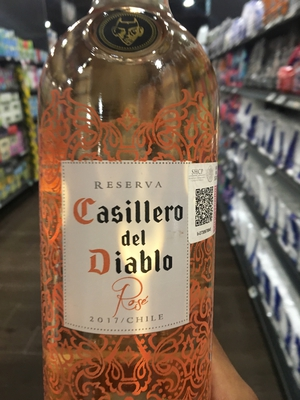casillero del diablo rose: (29, 12, 227, 389)
